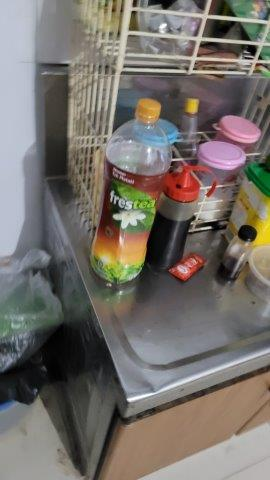botolplastik: (88, 97, 172, 287)
plastik: (1, 250, 63, 403)
